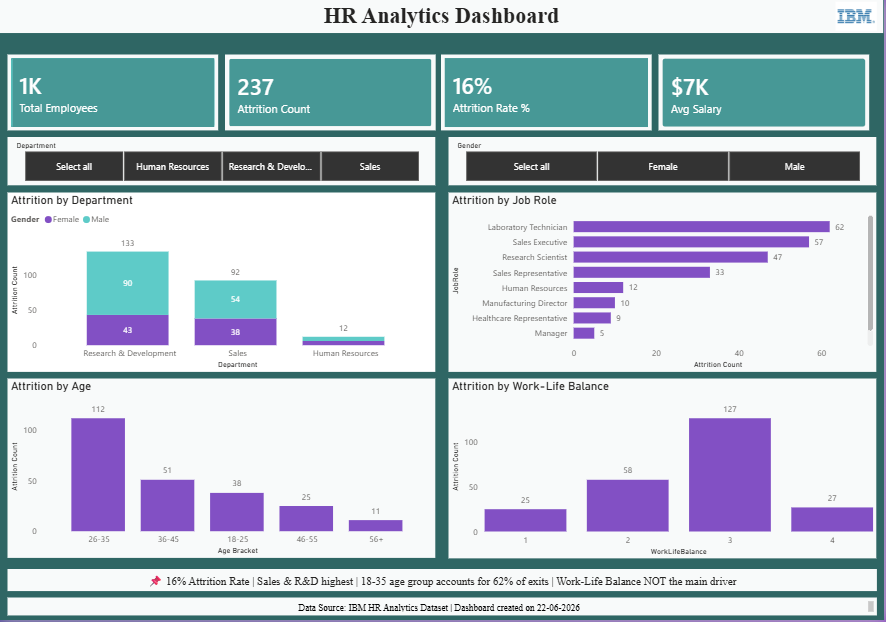

This screenshot's page, from the dashboard's own definition file:
{"tool":"powerbi","page":{"name":"Page 1","canvas":[1280,900],"ordinal":0},"visuals":[{"type":"cardVisual","fields":{"Data":["IBM_HR.Total Employees"]},"box":[10,80,305,110],"z":0},{"type":"cardVisual","fields":{"Data":["IBM_HR.Attrition Count"]},"box":[325,80,305,110],"z":1000},{"type":"cardVisual","fields":{"Data":["IBM_HR.Attrition Rate %"]},"box":[640,80,305,110],"z":2000},{"type":"cardVisual","fields":{"Data":["IBM_HR.Avg Salary"]},"box":[955,80,305,110],"z":3000},{"type":"columnChart","title":"Attrition by Department","fields":{"Category":["IBM_HR.Department"],"Y":["IBM_HR.Attrition Count"],"Series":["IBM_HR.Gender"]},"box":[10,280,620,260],"z":4000},{"type":"barChart","title":"Attrition by Job Role","fields":{"Category":["IBM_HR.JobRole"],"Y":["IBM_HR.Attrition Count"]},"box":[650,280,620,260],"z":5000},{"type":"columnChart","title":"Attrition by Age","fields":{"Category":["IBM_HR.Age Bracket"],"Y":["IBM_HR.Attrition Count"]},"box":[10,550,620,260],"z":6000},{"type":"columnChart","title":"Attrition by Work-Life Balance","fields":{"Category":["IBM_HR.WorkLifeBalance"],"Y":["IBM_HR.Attrition Count"]},"box":[650,550,620,260.4],"z":7000},{"type":"slicer","fields":{"Values":["IBM_HR.Department"]},"box":[10,200,620,70],"z":8000},{"type":"slicer","fields":{"Values":["IBM_HR.Gender"]},"box":[650,200,620,70],"z":9000},{"type":"textbox","box":[0,0,1280,49],"z":10000},{"type":"textbox","box":[10,825,1260,31.7],"z":11000},{"type":"image","box":[1210,0,60,50],"z":12000},{"type":"textbox","box":[10,867,1260,25.7],"z":13000}]}

Visuals, with their boxes in screenshot pixels (x1, y1, x2, y2), scaled from the page's 1280x900 canvas onto the 886x622 screenshot:
cardVisual - IBM_HR.Total Employees: x1=7, y1=55, x2=218, y2=131
cardVisual - IBM_HR.Attrition Count: x1=225, y1=55, x2=436, y2=131
cardVisual - IBM_HR.Attrition Rate %: x1=443, y1=55, x2=654, y2=131
cardVisual - IBM_HR.Avg Salary: x1=661, y1=55, x2=872, y2=131
"Attrition by Department" columnChart: x1=7, y1=194, x2=436, y2=373
"Attrition by Job Role" barChart: x1=450, y1=194, x2=879, y2=373
"Attrition by Age" columnChart: x1=7, y1=380, x2=436, y2=560
"Attrition by Work-Life Balance" columnChart: x1=450, y1=380, x2=879, y2=560
slicer - IBM_HR.Department: x1=7, y1=138, x2=436, y2=187
slicer - IBM_HR.Gender: x1=450, y1=138, x2=879, y2=187
textbox: x1=0, y1=0, x2=885, y2=34
textbox: x1=7, y1=570, x2=879, y2=592
image: x1=838, y1=0, x2=879, y2=35
textbox: x1=7, y1=599, x2=879, y2=617
